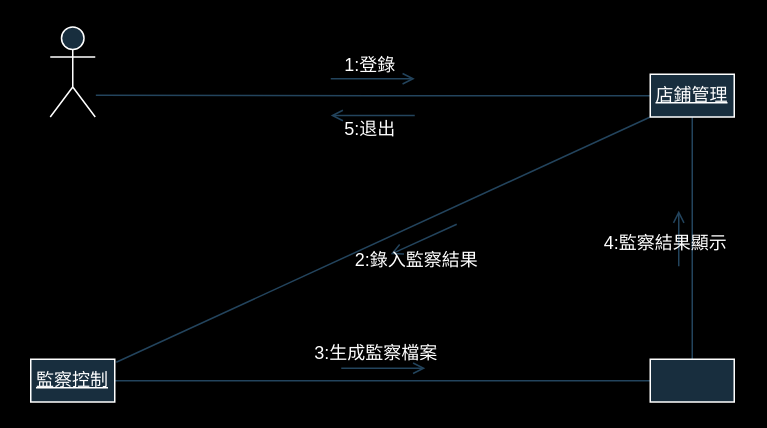
This 767x428 diagram has some shape labels left out. The shapes that lost their labels are listed below. From the top down, each one's box as (x1, y1, x2, y2) in pixels, then its label:
(49, 26, 95, 117): :店舖管理員
(649, 358, 734, 402): 監察檔案
